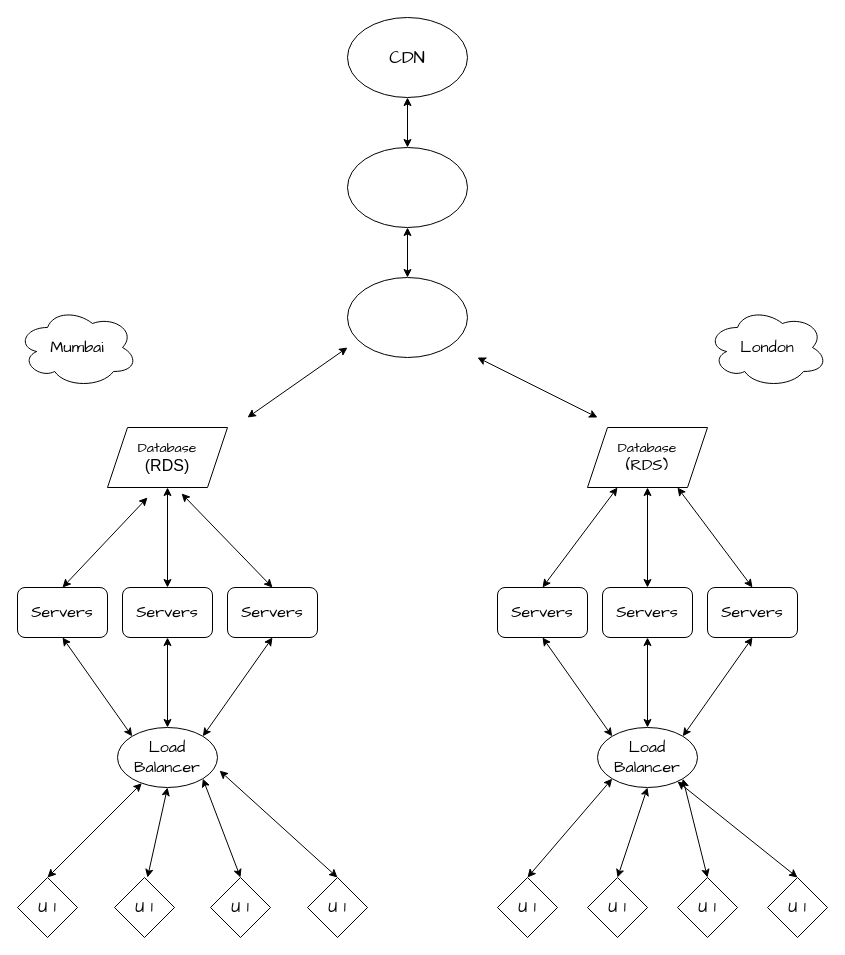
The diagram is 845 pixels wide and 955 high, and some of its shapes have lost their labels. Here are the shapes that lost their labels. From the top down, the box of each, then its label:
(346, 146, 468, 228): Edge Caching
(346, 276, 468, 358): Global Load Balancer
